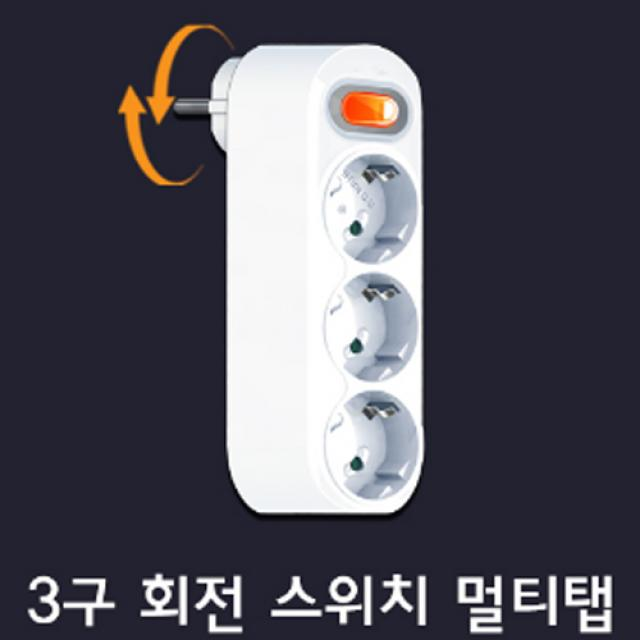typeb: (258, 42, 457, 533)
